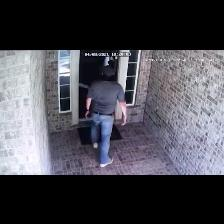person: (86, 66, 126, 167)
